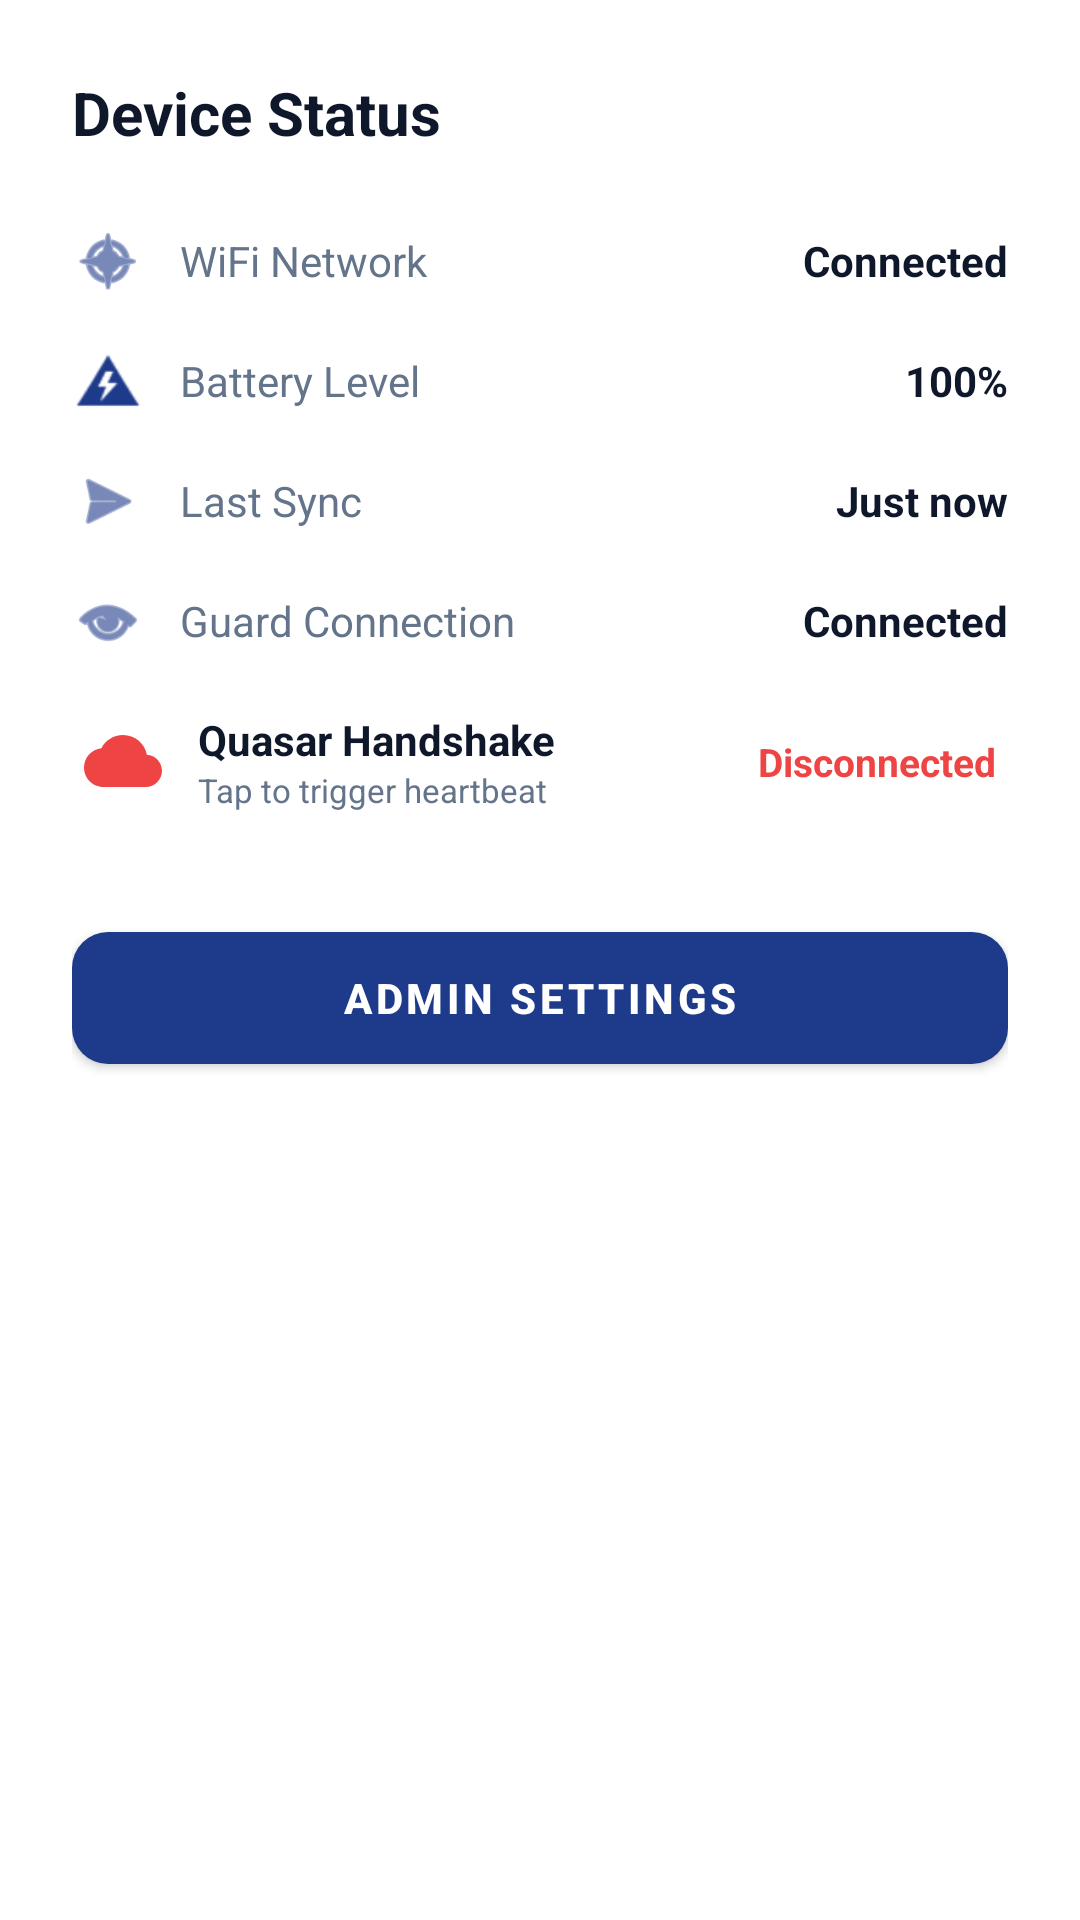

Icons on this 1080×1920 Android screen, each with the point to tap as point (x, y):
compass: point (107, 261)
send: point (109, 501)
view: point (108, 622)
